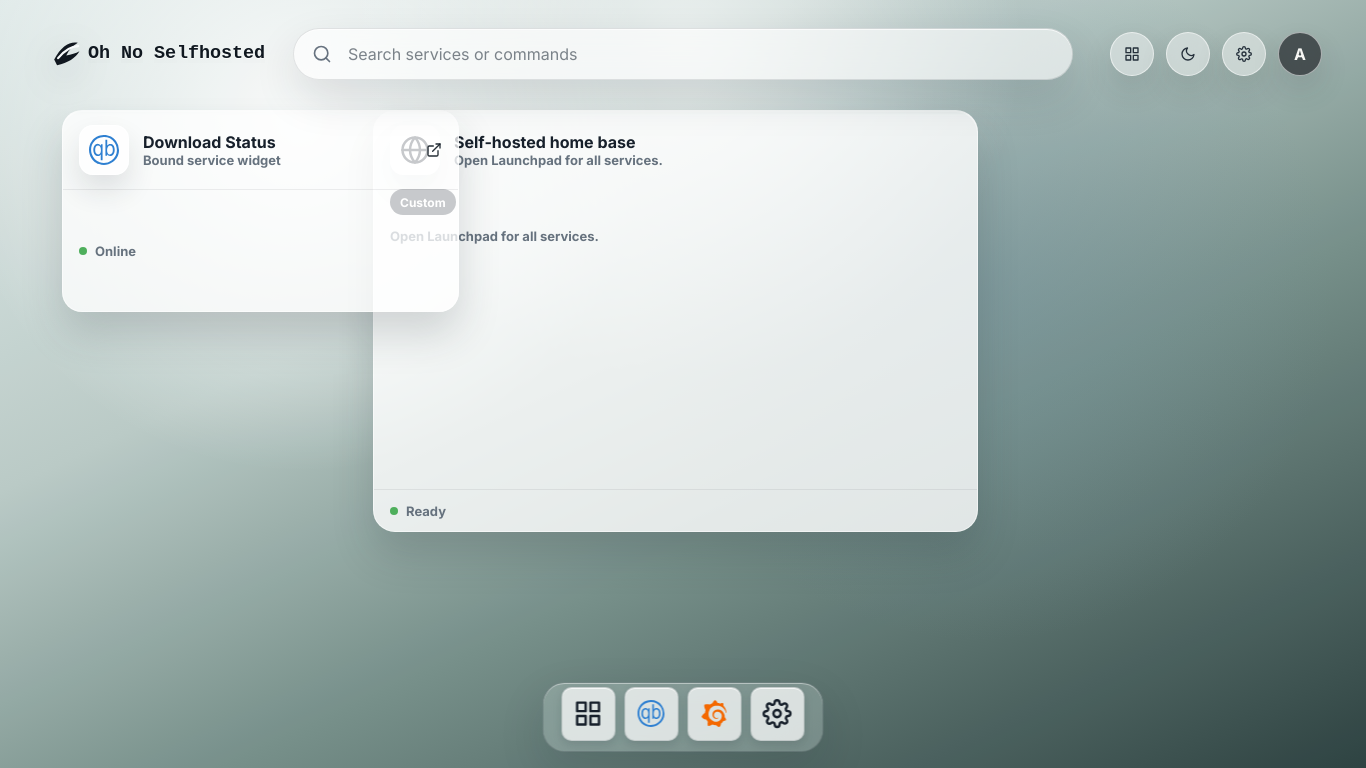
Homelab navigation dashboard › global search exposes services and commands, and keyboard shortcut focuses it
expect the text "Self-hosted home base" is shown: met, box [454,132,635,152]
Type keys "{Meta>}k{/Meta}"
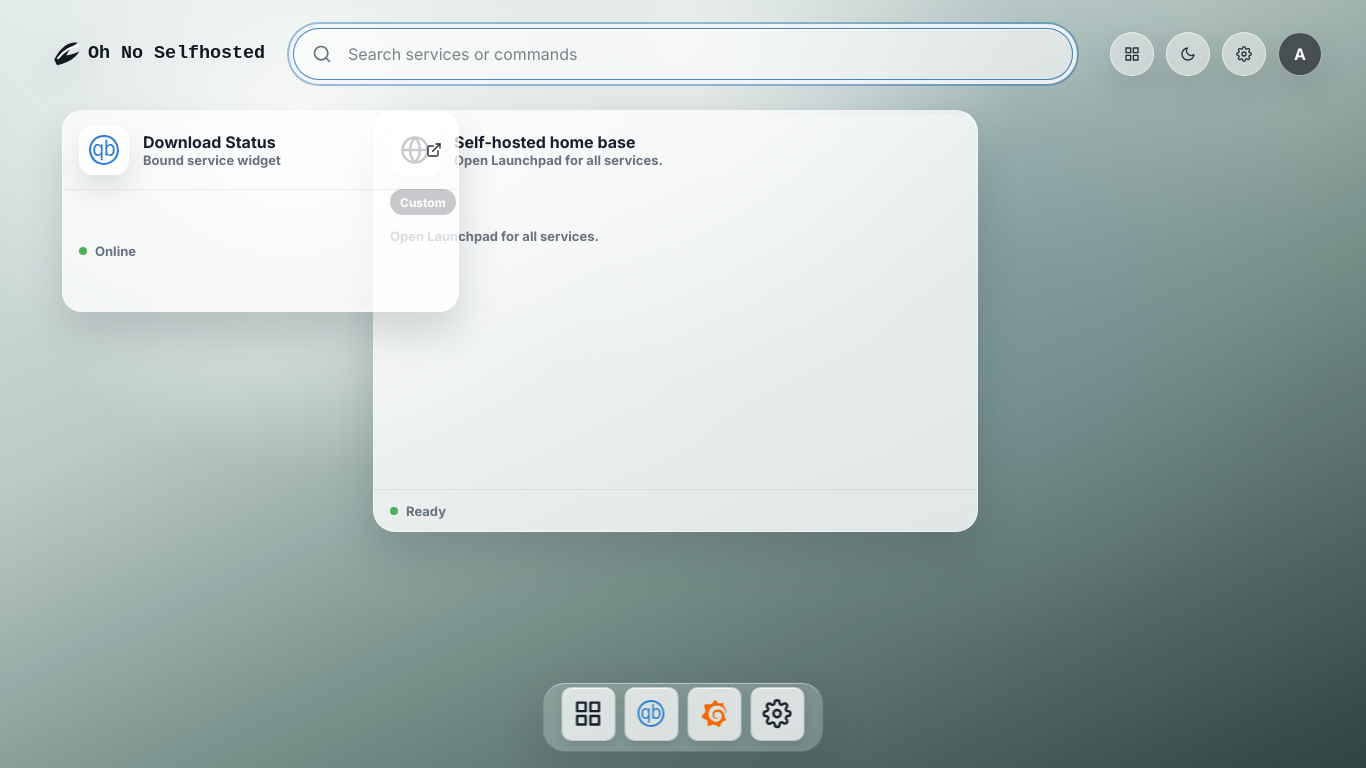
Type "settings" into the dropdown named "global search".
click(700, 54); type("settings")  # box [346,43,1054,65]
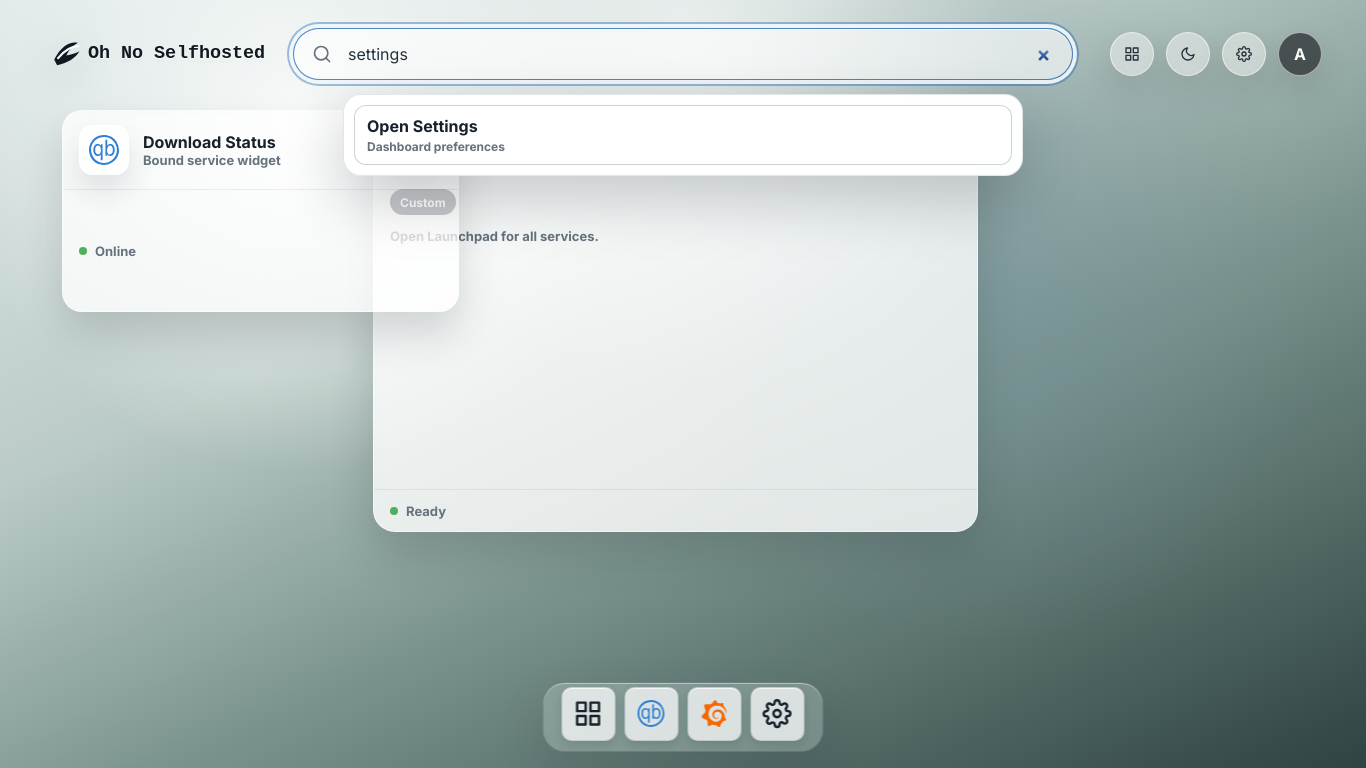
expect the list named "global search results" is shown: met, box [343,94,1023,176]
expect the option "Open Settings Dashboard preferences" is shown: met, box [354,105,1012,165]
Press Arrowdown
Click the option "Open Settings Dashboard preferences".
click(422, 126)  # box [354,105,1012,165]
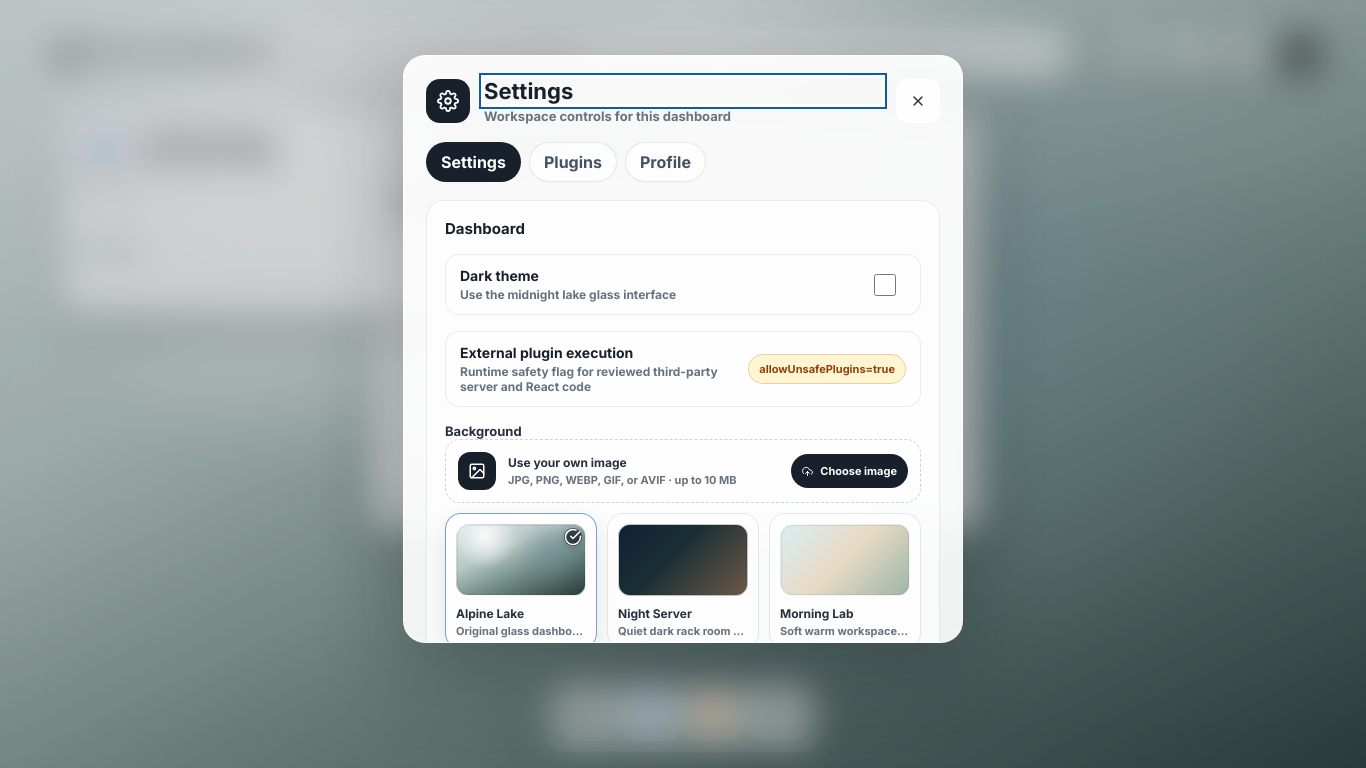
expect the dialog "Settings" is shown: met, box [403,55,963,643]
Press Escape
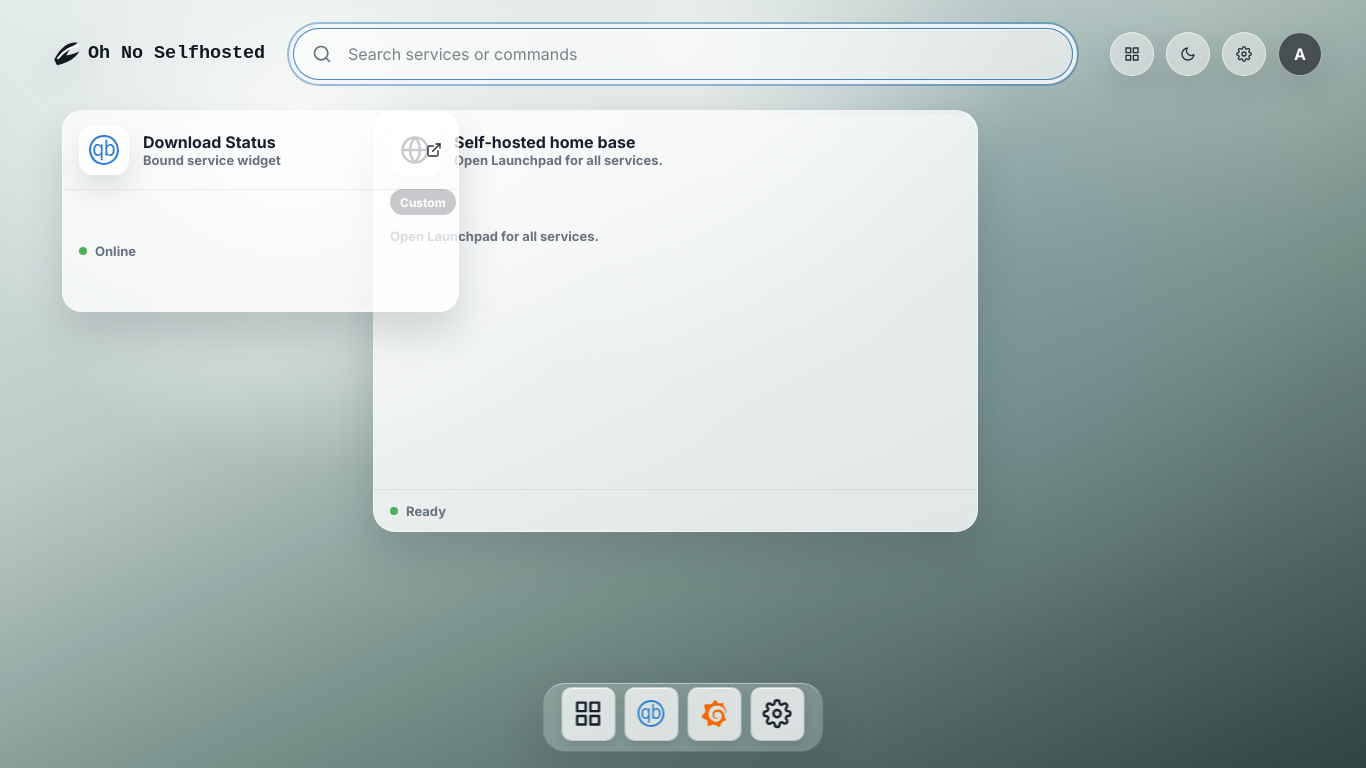
expect the heading "Settings" is gone: met
